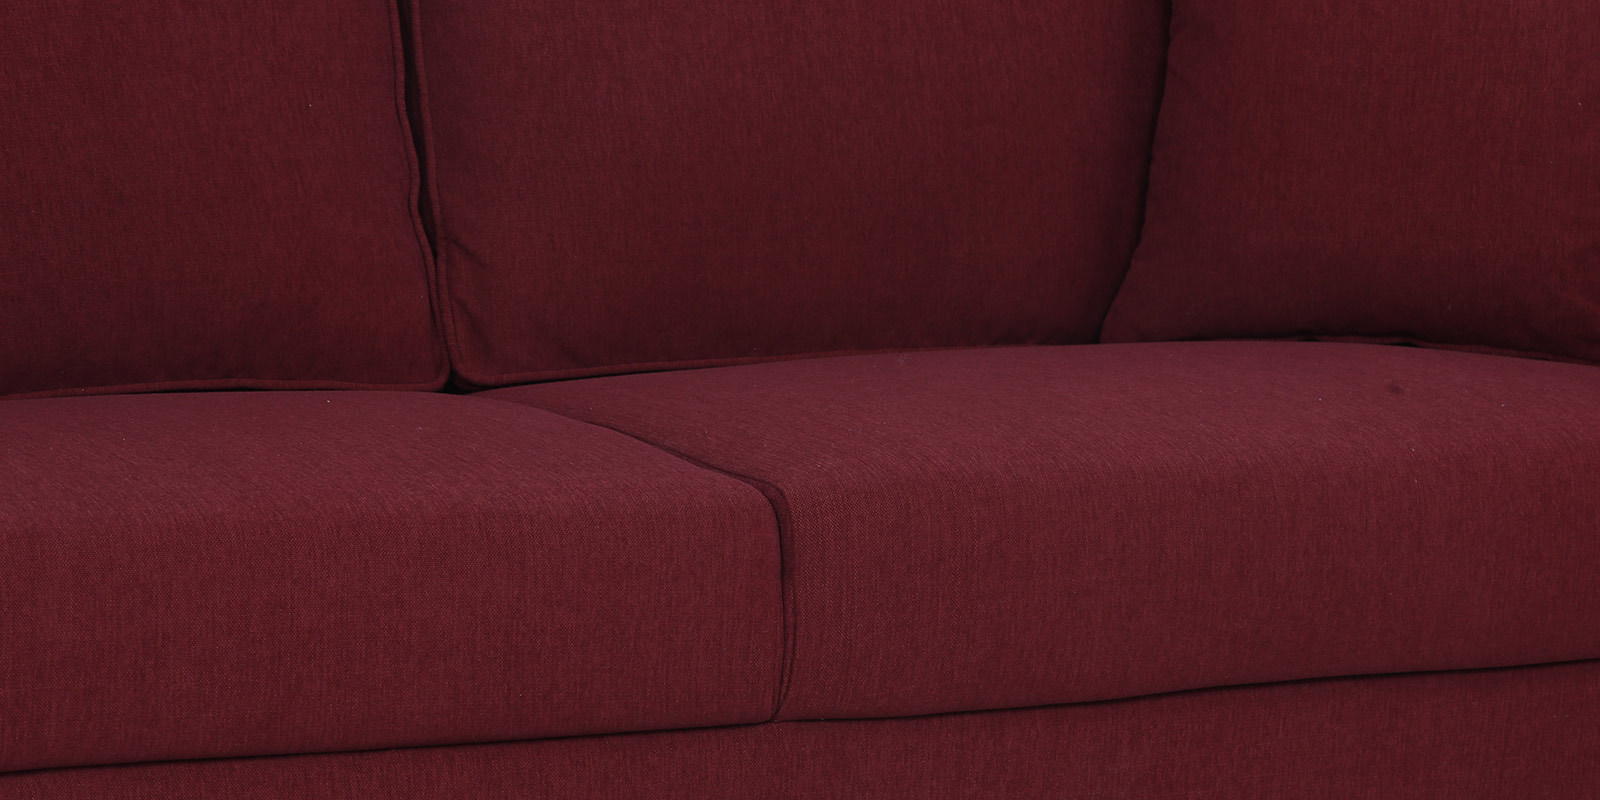Fuego Three Seater Sofa in Garnet Red Colour by CasaCraft: (5, 10, 1599, 793)
